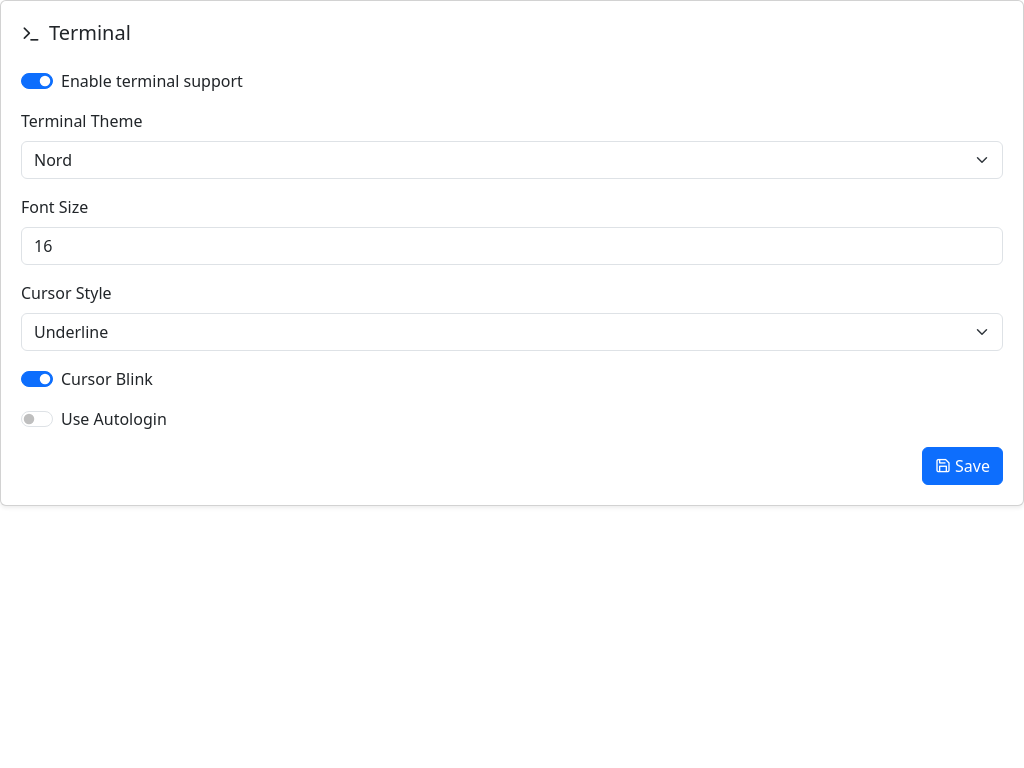
Test: TerminalSettingsCard › blocks submission and shows a validation error when the font size is below the minimum
Replace the text in the number field labelled "Font Size" with "4" at (512, 246), box [21,227,1003,265]
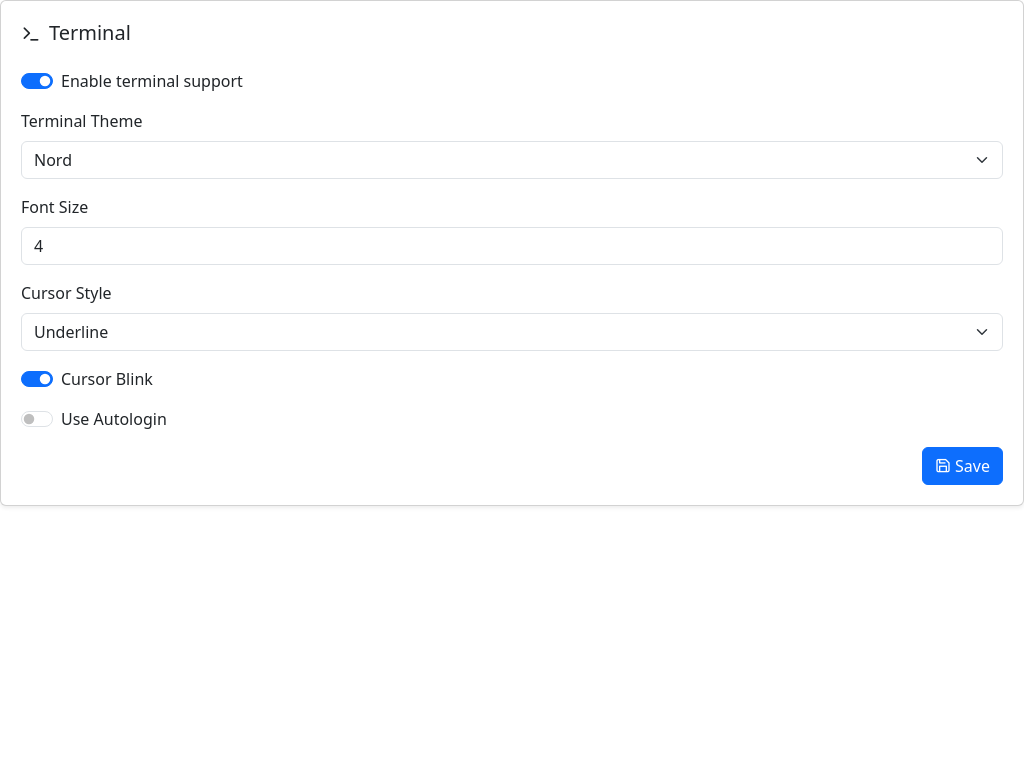
Click the button "Save" at (963, 466), box [922,447,1003,485]
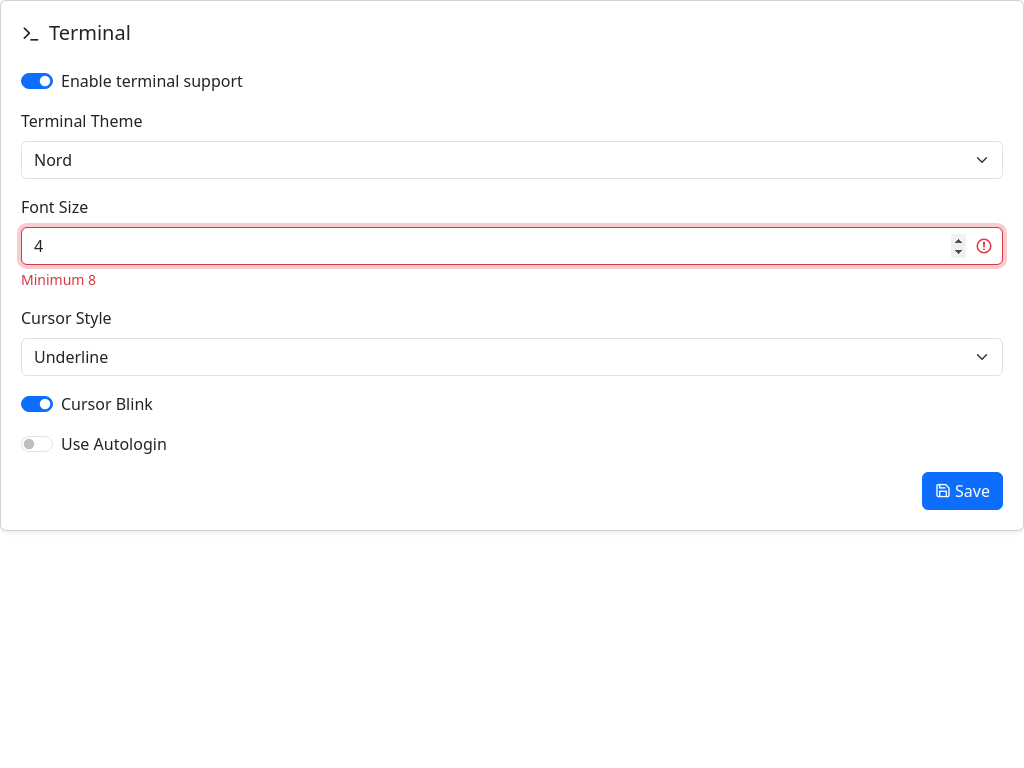
Expected: the text "Minimum 8" is shown, [21,270,96,289]
